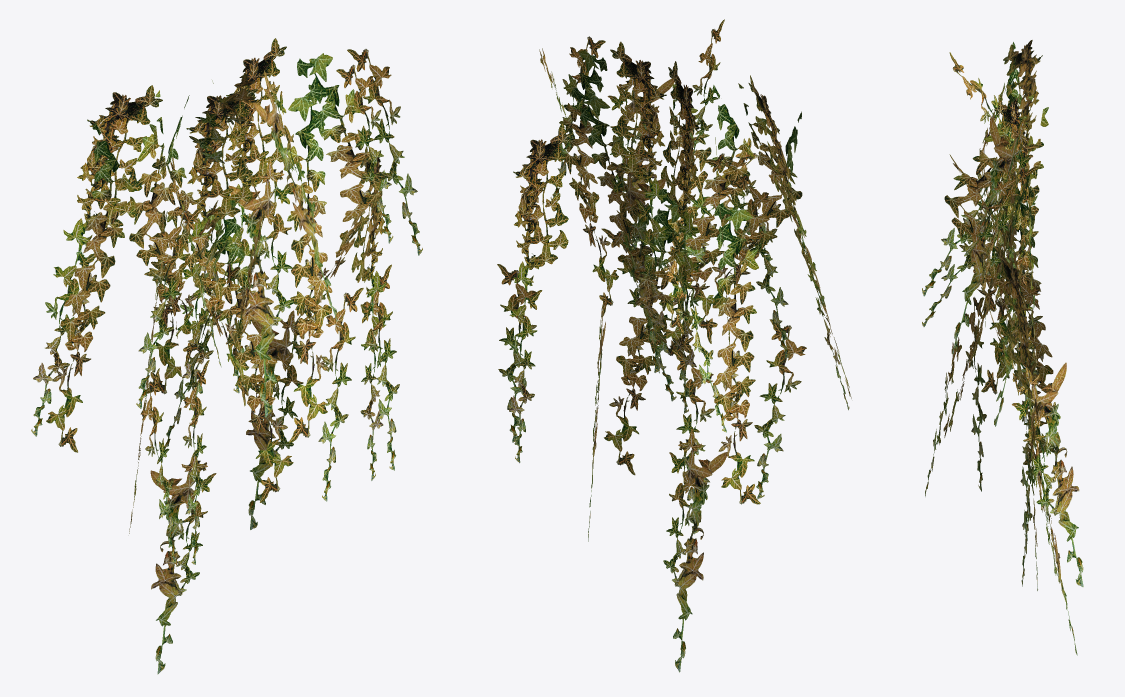
The model's file is ivy25_lod1.fbx.
The picture shows the model from 3 angles, left to right: view 1: azimuth 30°, elevation 25°; view 2: azimuth 150°, elevation 25°; view 3: azimuth 270°, elevation 25°; orthographic projection. The views are drawn at different scales.
Parts seen in each view (by area): view 1: Mesh Object; view 2: Mesh Object; view 3: Mesh Object.
Boxes of the visible parts, x1=… form: Mesh Object: x1=31, y1=38, x2=422, y2=674; Mesh Object: x1=497, y1=19, x2=851, y2=672; Mesh Object: x1=922, y1=40, x2=1083, y2=655.
Bounding box in the file's own units: 1.22 × 1.91 × 0.6012.
